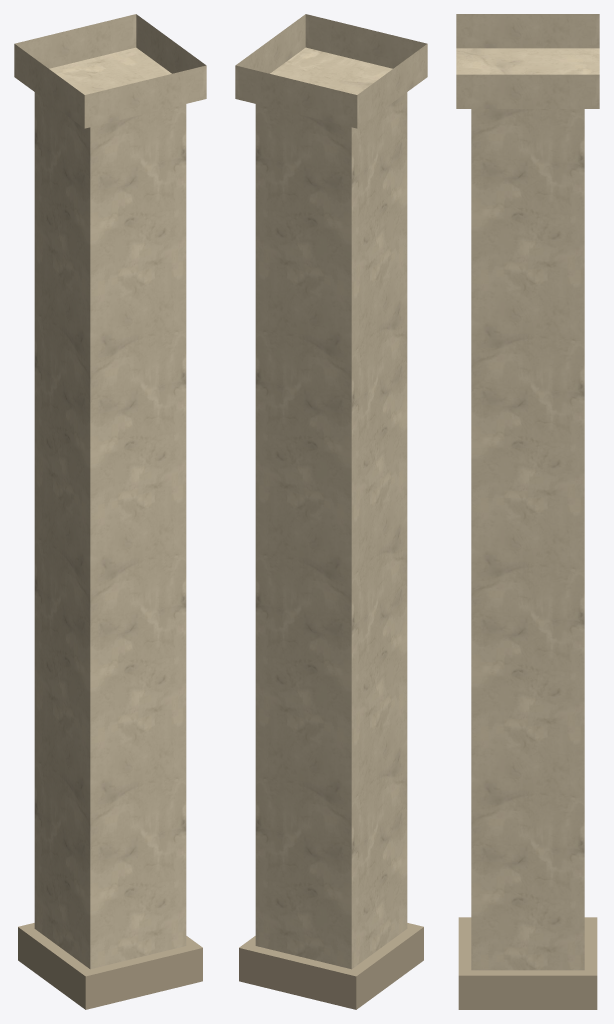
Rendered from pier.glb.
3 renders of one model, left to right at view 1: azimuth 30°, elevation 25°; view 2: azimuth 150°, elevation 25°; view 3: azimuth 270°, elevation 25°, orthographic. The views are drawn at different scales.
Visible parts, largest first — view 1: pier; view 2: pier; view 3: pier.
Part boxes in pixels (box(x1,y1,x2,y2)): pier: box(14, 14, 206, 1009); pier: box(235, 14, 427, 1009); pier: box(456, 14, 599, 1009).
Size of the model in its own units: 1.14 by 8.2 by 1.14.
Materials: 2 (1 with a texture image).
